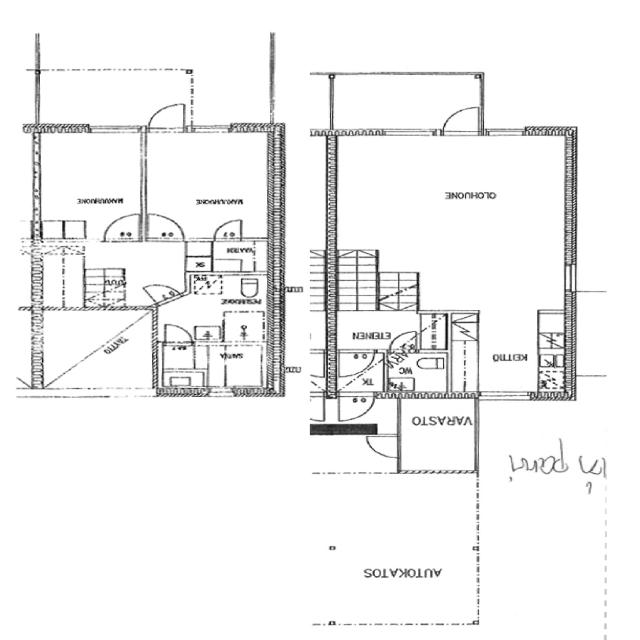door: (333, 388, 378, 423), (144, 100, 189, 134), (335, 350, 380, 382), (143, 210, 187, 242), (440, 104, 482, 136), (103, 211, 142, 242), (364, 432, 403, 460), (211, 217, 245, 242), (160, 322, 194, 345), (144, 281, 176, 305), (389, 333, 418, 353)
window: (26, 182, 46, 225), (477, 388, 534, 402), (85, 123, 144, 136), (380, 127, 436, 140), (561, 260, 581, 294), (187, 122, 234, 136), (485, 126, 528, 139), (206, 386, 239, 396)
zone: (331, 133, 571, 310), (142, 128, 276, 242), (34, 129, 145, 243), (34, 238, 186, 312), (450, 313, 569, 396), (157, 342, 278, 395), (397, 396, 478, 474), (186, 273, 275, 343), (324, 310, 434, 351), (384, 350, 451, 396), (210, 239, 272, 273), (332, 385, 378, 424), (336, 349, 378, 379)
